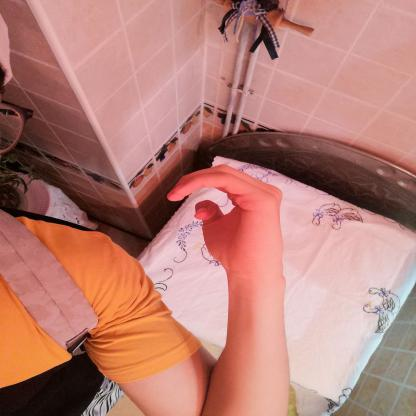JEEM: (152, 156, 302, 280)
